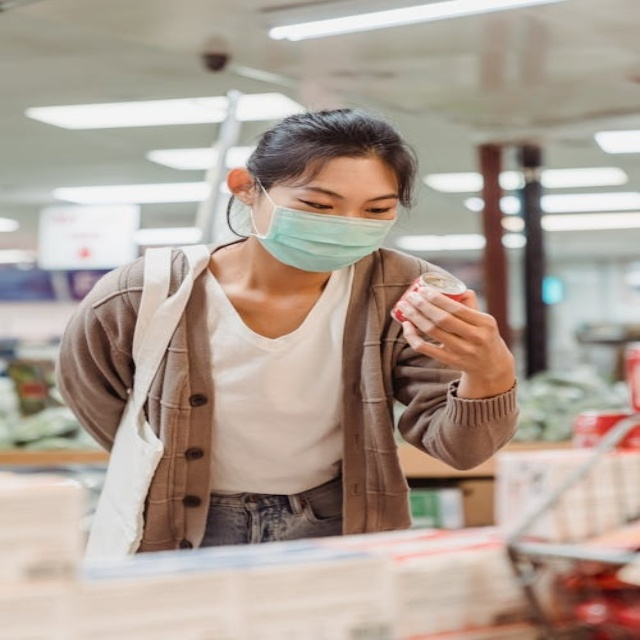Mascara: (241, 182, 397, 272)
Sin_gafas: (298, 198, 334, 210), (364, 206, 394, 214)
Sin_guantes: (390, 278, 511, 387)
